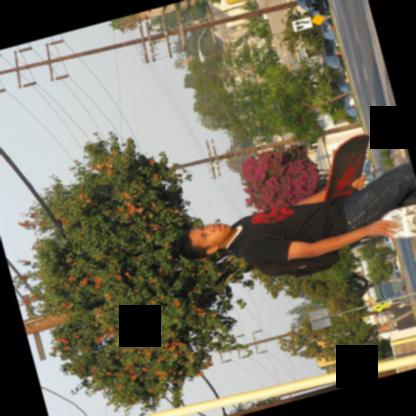backpack: (237, 248, 340, 276)
